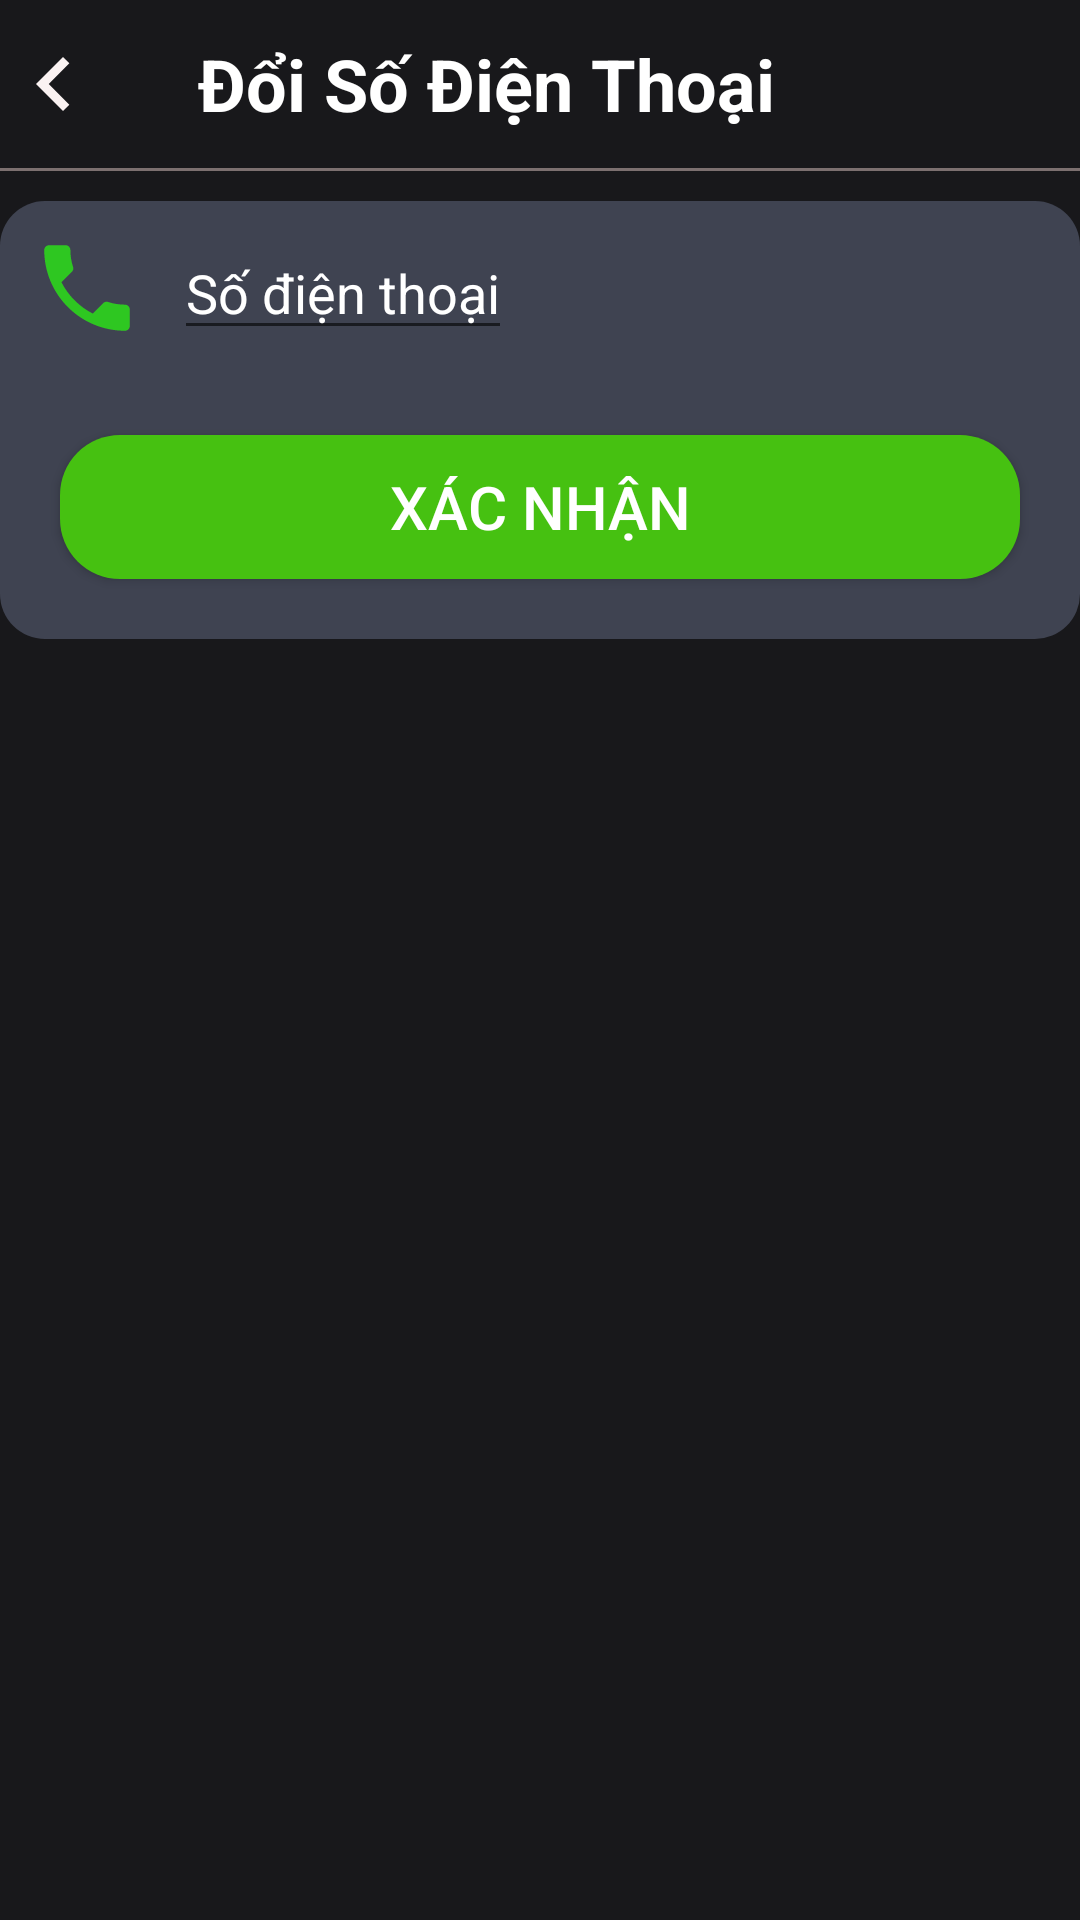

Locate icon controls on the screen. Image size 1080px×1920px, boxes as (x1, y1, x2, y2).
keyboard arrow left: (36, 57, 70, 111)
phone: (44, 245, 130, 331)
